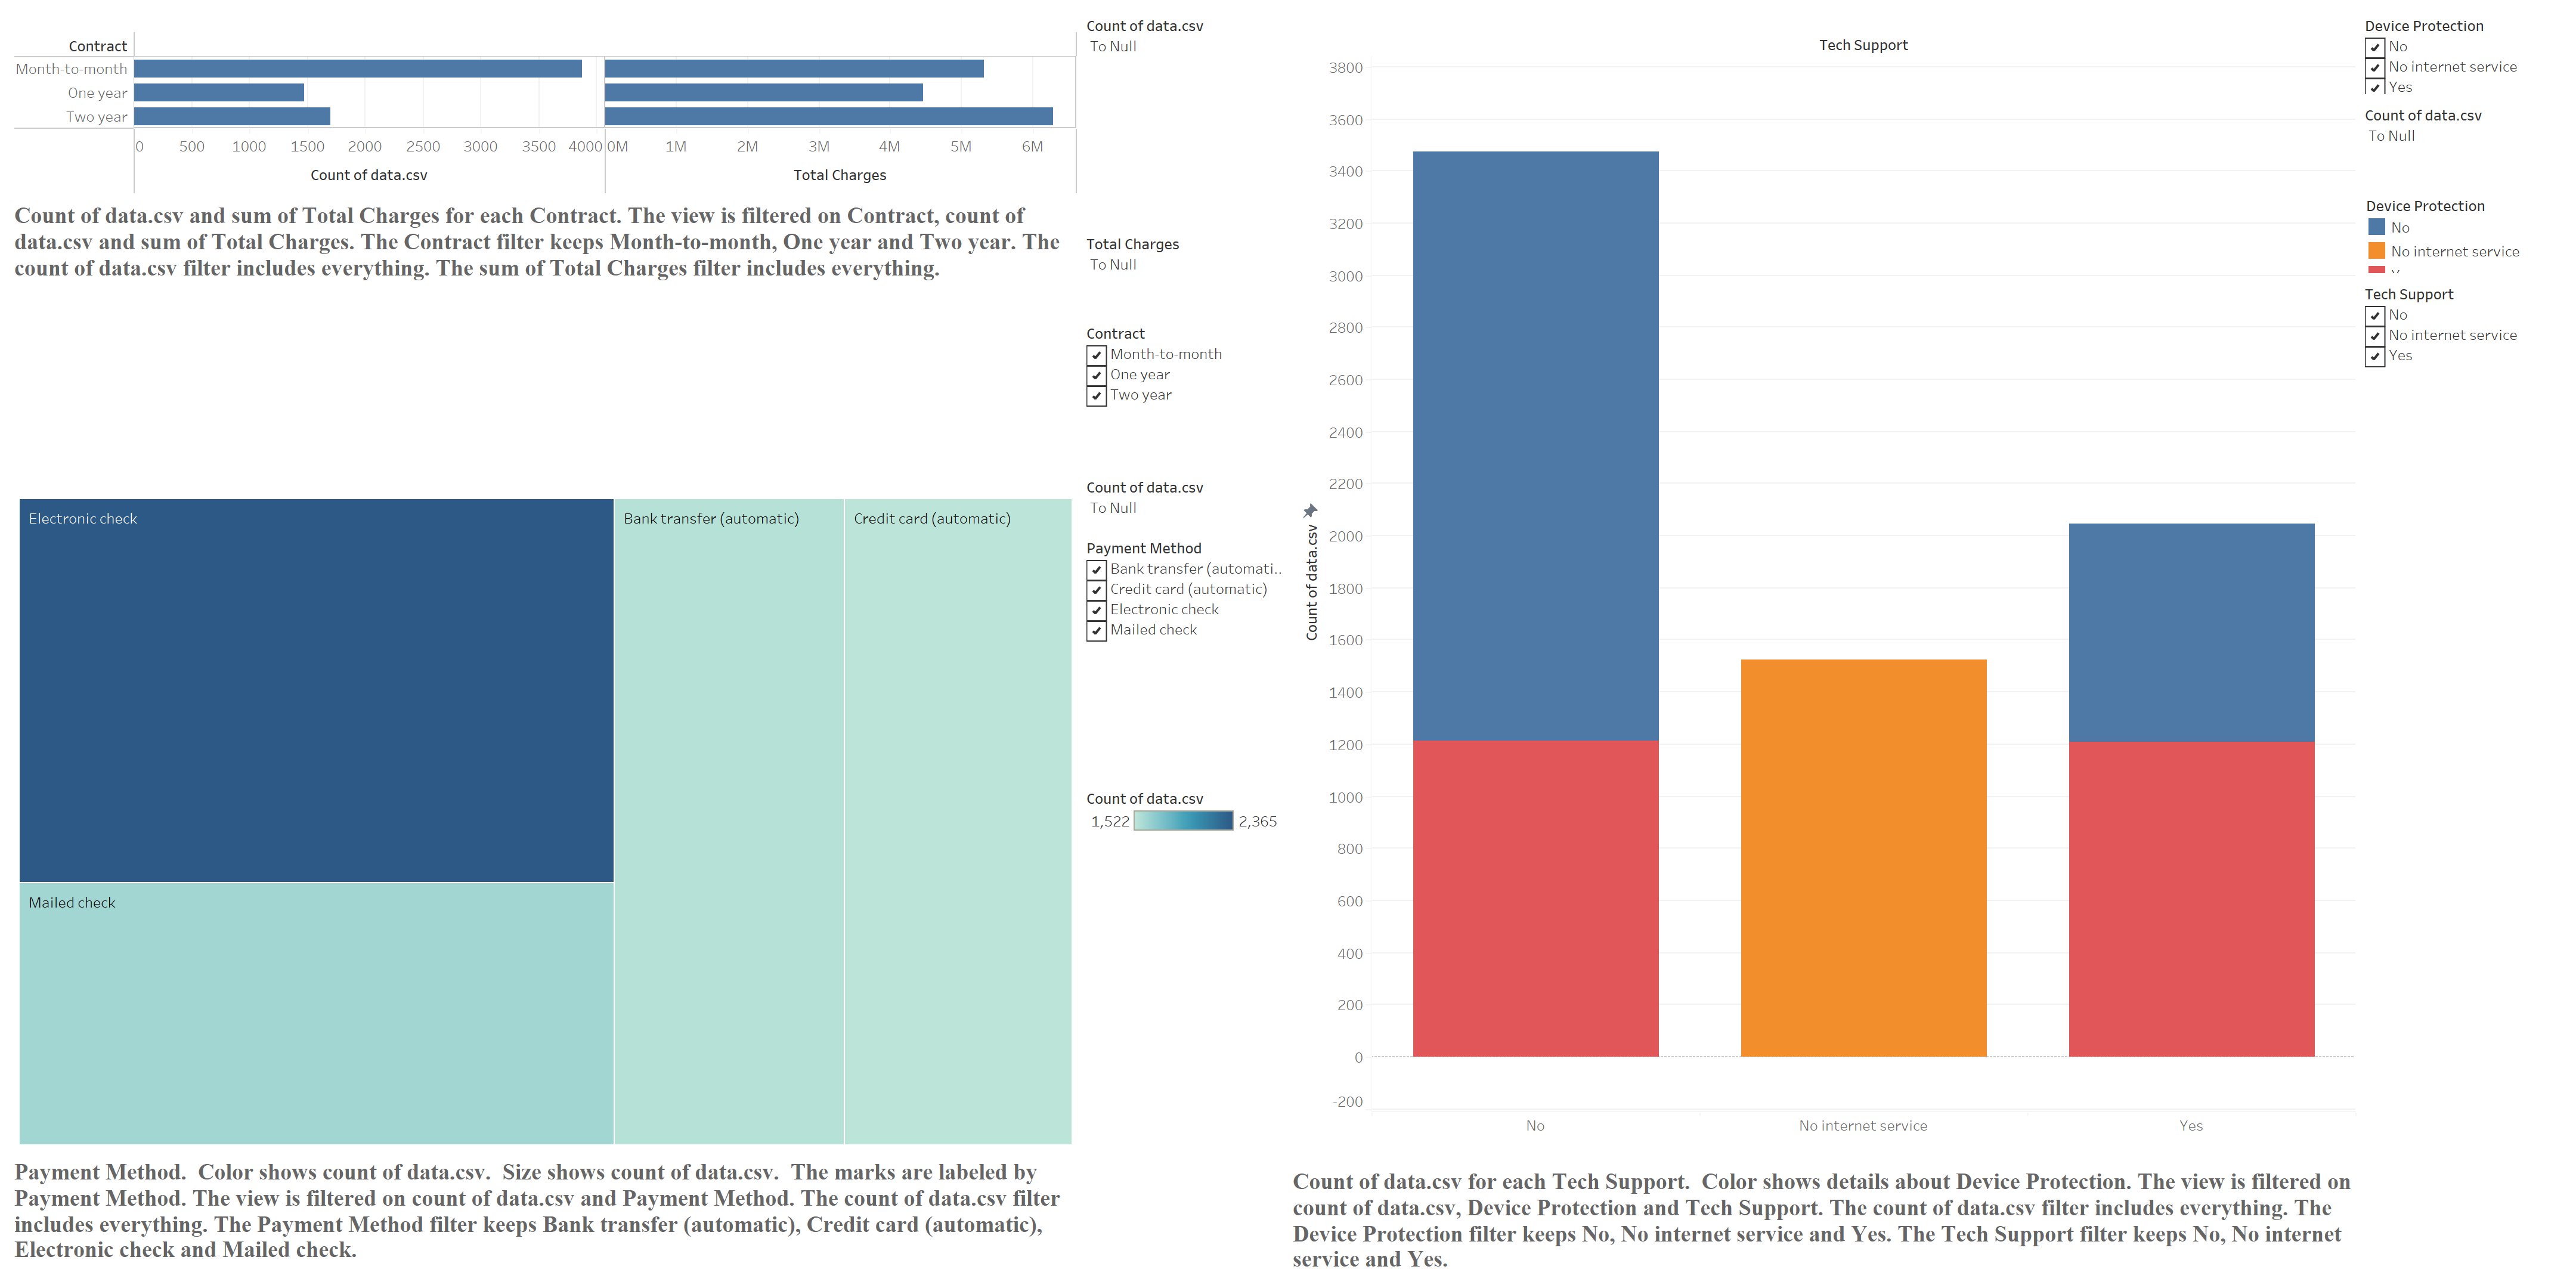

Layout of this report page (visuals, bound fields, positions):
{"tool":"tableau","page":{"name":"Dashboard 3","canvas":[2160,1080],"ordinal":1},"visuals":[{"type":"worksheet","title":"Sheet 6","mark":"Automatic","rows":["Contract"],"cols":["data.csv_F003795F1D954563B10AABD32C53F64B","TotalCharges"],"box":[8,8,899.1,387]},{"type":"filter","title":"Sheet 6","param":"[federated.0mi6s5z00i2sel1cduuhg1ahmho1].[__tableau_internal_object_id__].[cnt:d","box":[907.1,8,172.9,183]},{"type":"worksheet","title":"Sheet 4","mark":"Automatic","rows":["data.csv_F003795F1D954563B10AABD32C53F64B"],"cols":["TechSupport"],"box":[1080,8,899.1,1064]},{"type":"filter","title":"Sheet 4","param":"[federated.0mi6s5z00i2sel1cduuhg1ahmho1].[none:DeviceProtection:nk]","box":[1979.1,8,172.9,75]},{"type":"filter","title":"Sheet 4","param":"[federated.0mi6s5z00i2sel1cduuhg1ahmho1].[__tableau_internal_object_id__].[cnt:d","box":[1979.1,83,172.9,75]},{"type":"legend","title":"Sheet 4","param":"[federated.0mi6s5z00i2sel1cduuhg1ahmho1].[none:DeviceProtection:nk]","box":[1979.1,158,172.9,75]},{"type":"filter","title":"Sheet 6","param":"[federated.0mi6s5z00i2sel1cduuhg1ahmho1].[sum:TotalCharges:qk]","box":[907.1,191,172.9,75]},{"type":"filter","title":"Sheet 4","param":"[federated.0mi6s5z00i2sel1cduuhg1ahmho1].[none:TechSupport:nk]","box":[1979.1,233,172.9,839]},{"type":"filter","title":"Sheet 6","param":"[federated.0mi6s5z00i2sel1cduuhg1ahmho1].[none:Contract:nk]","box":[907.1,266,172.9,129]},{"type":"worksheet","title":"Sheet 2","mark":"Automatic","box":[8,395,899.1,677]},{"type":"filter","title":"Sheet 2","param":"[federated.0mi6s5z00i2sel1cduuhg1ahmho1].[__tableau_internal_object_id__].[cnt:d","box":[907.1,395,172.9,51]},{"type":"filter","title":"Sheet 2","param":"[federated.0mi6s5z00i2sel1cduuhg1ahmho1].[none:PaymentMethod:nk]","box":[907.1,446,172.9,207]},{"type":"legend","title":"Sheet 2","param":"[federated.0mi6s5z00i2sel1cduuhg1ahmho1].[__tableau_internal_object_id__].[cnt:d","box":[907.1,653,172.9,419]}]}

Visuals, with their boxes in screenshot pixels (x1, y1, x2, y2), scaled from the page's 2160x1080 canvas onto the 2576x1288 screenshot:
"Sheet 6" worksheet: {"left": 10, "top": 10, "right": 1082, "bottom": 471}
"Sheet 6" filter: {"left": 1082, "top": 10, "right": 1288, "bottom": 228}
"Sheet 4" worksheet: {"left": 1288, "top": 10, "right": 2360, "bottom": 1278}
"Sheet 4" filter: {"left": 2360, "top": 10, "right": 2566, "bottom": 99}
"Sheet 4" filter: {"left": 2360, "top": 99, "right": 2566, "bottom": 188}
"Sheet 4" legend: {"left": 2360, "top": 188, "right": 2566, "bottom": 278}
"Sheet 6" filter: {"left": 1082, "top": 228, "right": 1288, "bottom": 317}
"Sheet 4" filter: {"left": 2360, "top": 278, "right": 2566, "bottom": 1278}
"Sheet 6" filter: {"left": 1082, "top": 317, "right": 1288, "bottom": 471}
"Sheet 2" worksheet: {"left": 10, "top": 471, "right": 1082, "bottom": 1278}
"Sheet 2" filter: {"left": 1082, "top": 471, "right": 1288, "bottom": 532}
"Sheet 2" filter: {"left": 1082, "top": 532, "right": 1288, "bottom": 779}
"Sheet 2" legend: {"left": 1082, "top": 779, "right": 1288, "bottom": 1278}
